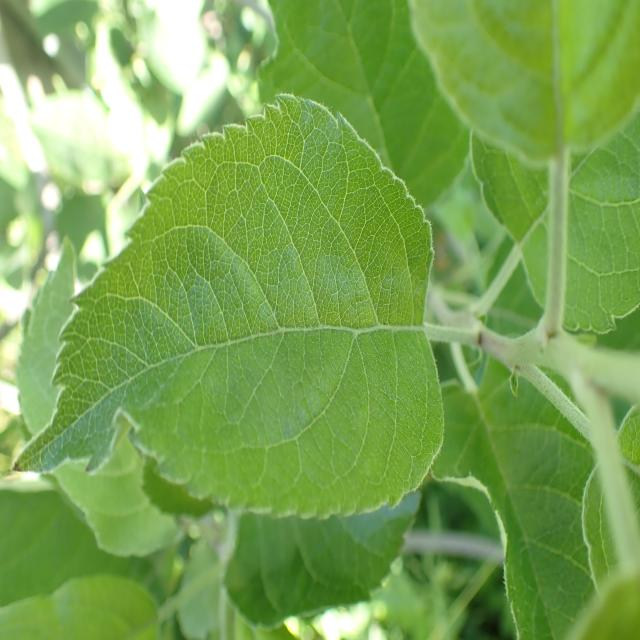healthy: (8, 92, 445, 522), (431, 358, 597, 640), (257, 0, 470, 211), (468, 108, 640, 338), (406, 0, 640, 166), (223, 487, 422, 630), (581, 404, 640, 590)
